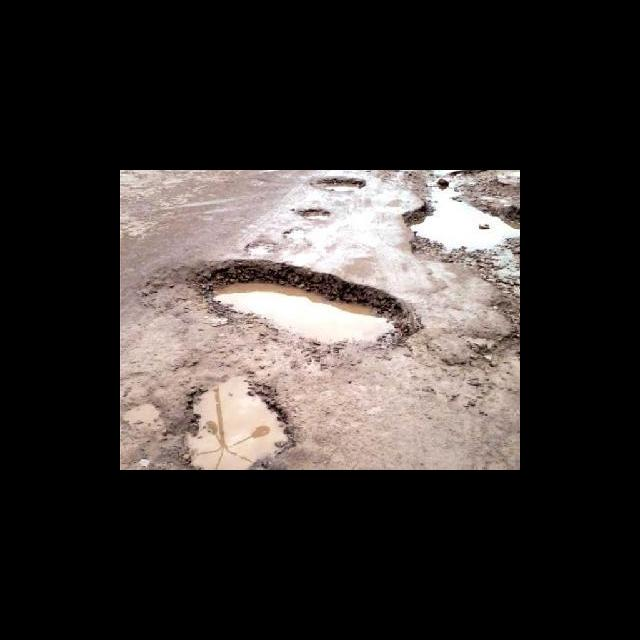lubang_kecil: (203, 249, 416, 362), (169, 366, 298, 470)
